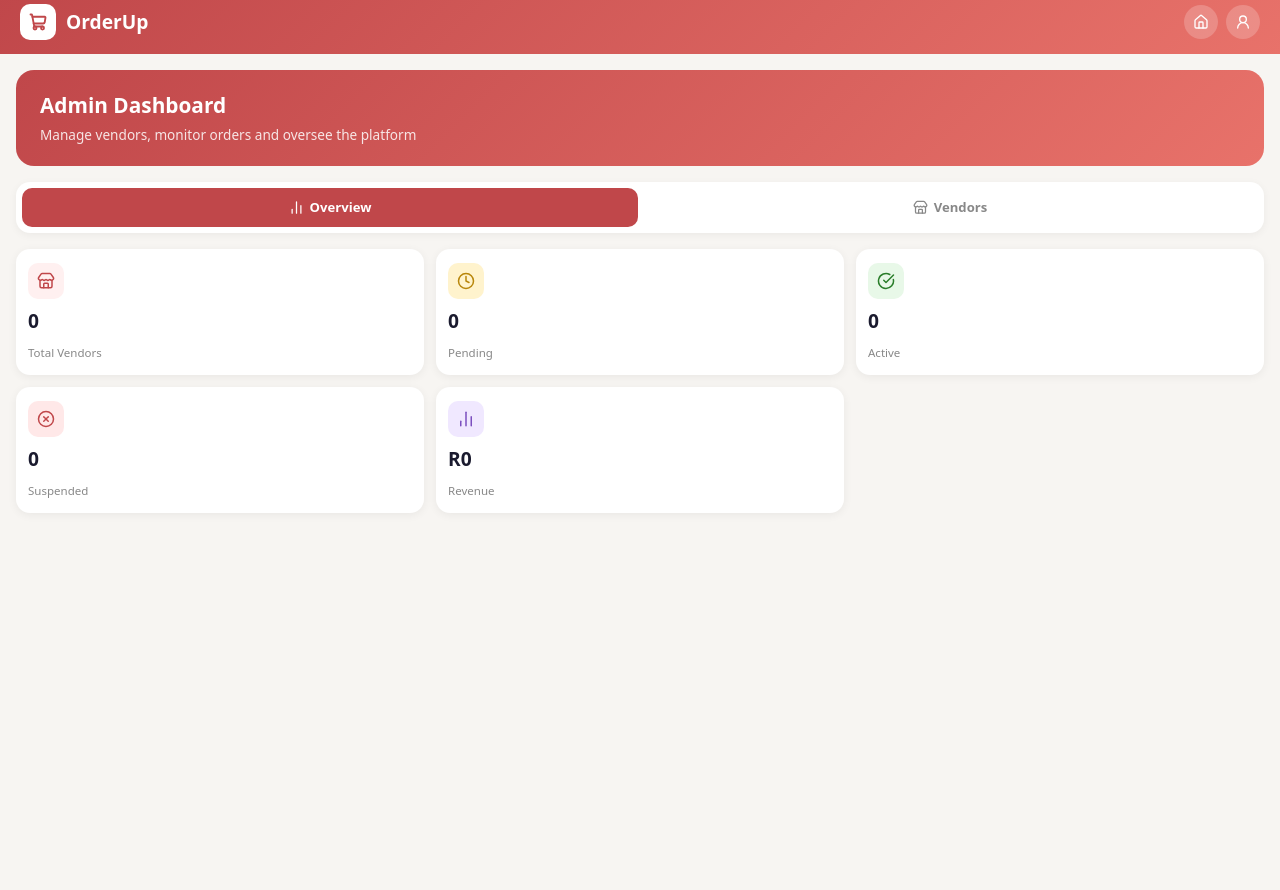
AdminDashboard › renders category icons: Asian→Utensils, Cafe→Coffee, Healthy→Leaf, Other→Store
The image size is (1280, 890).
Expected: the text "Total Vendors" is shown, [28,345,102,360]
Click the button "Vendors" at (950, 207), box [642,188,1258,227]
(page scrolled)
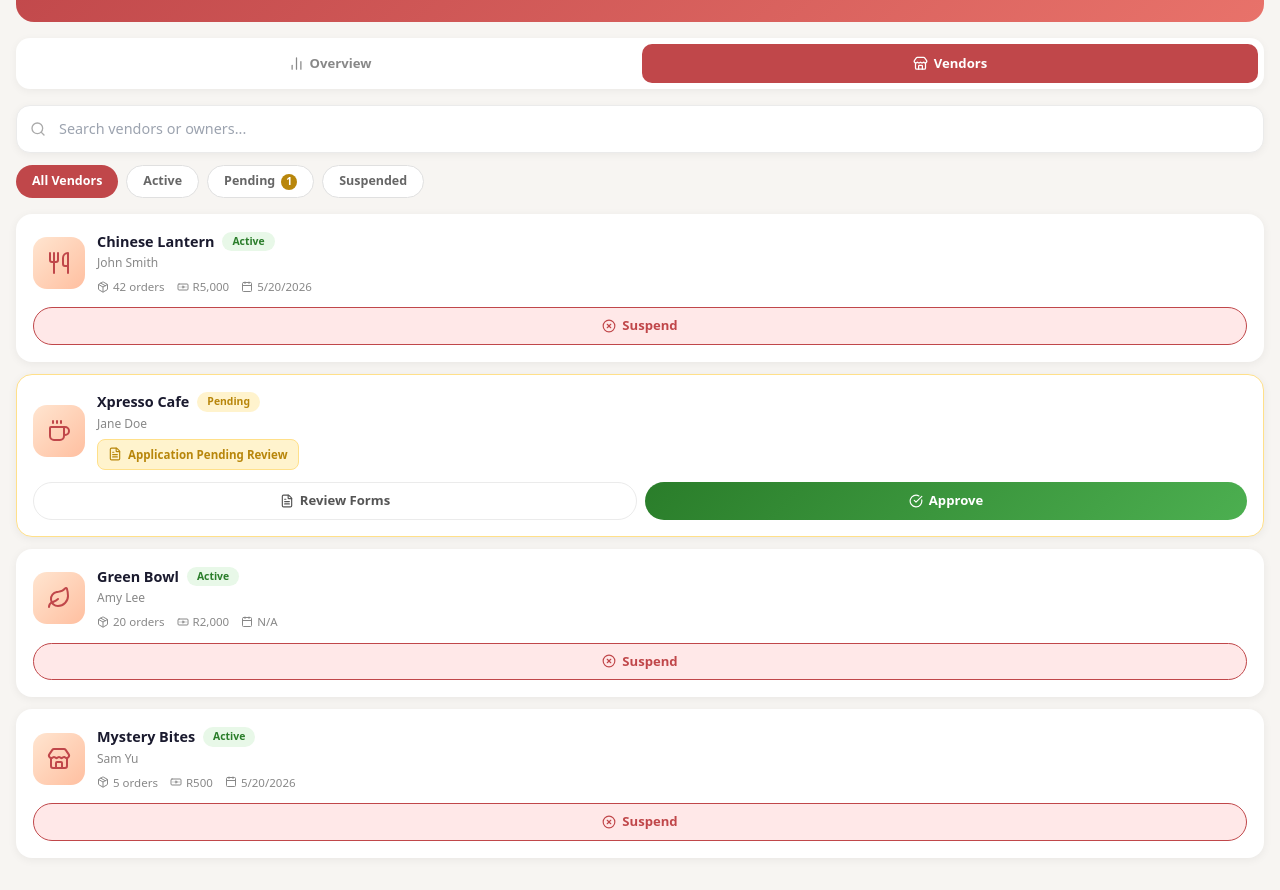
Result: the heading "Chinese Lantern" is shown at [97,231,214,252]
Result: the heading "Green Bowl" is shown at [97,566,179,587]
Result: the heading "Mystery Bites" is shown at [97,726,195,748]
